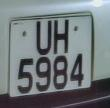4: (68, 48, 88, 91)
5: (14, 53, 36, 97)
8: (52, 53, 72, 94)
9: (34, 55, 54, 95)
H: (52, 15, 72, 56)
U: (33, 16, 54, 57)
